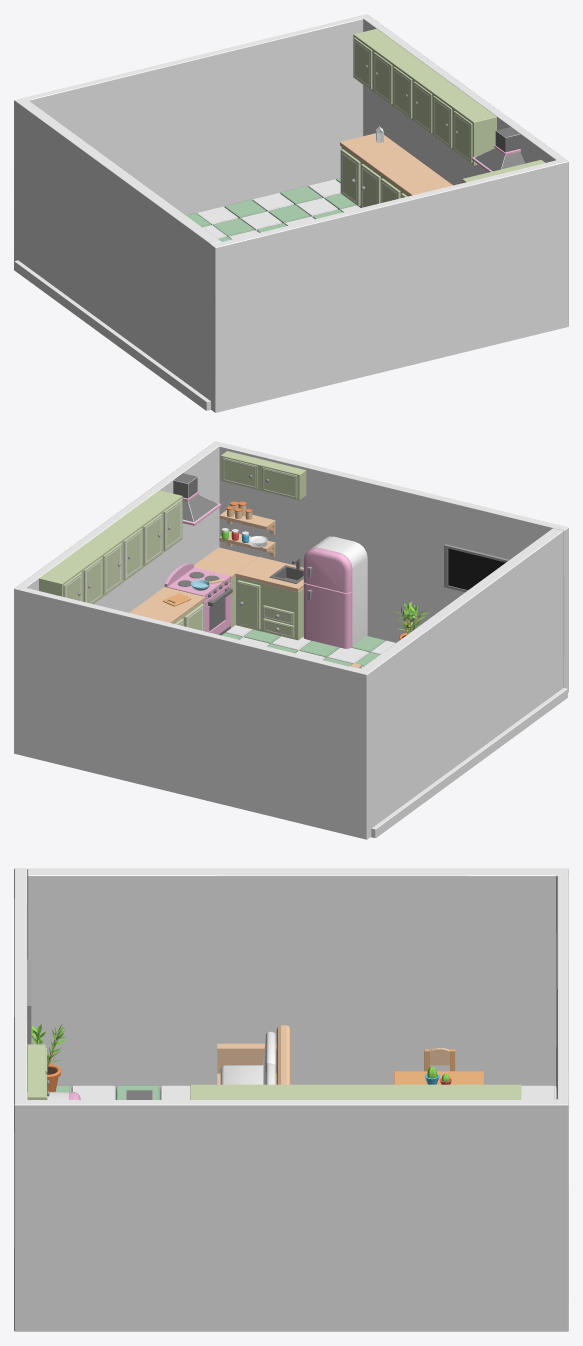
The model's file is KitchenV1.fbx.
The picture shows the model from 3 angles, top to bottom: view 1: azimuth 30°, elevation 25°; view 2: azimuth 150°, elevation 25°; view 3: azimuth 270°, elevation 25°; orthographic projection. The views are drawn at different scales.
Parts seen in each view (by area): view 1: Wall, Floor tile.001, Counter.002, Cupboard.002, Cupboard.001, Cupboard, Floor, Counter.001, Hood; view 2: Wall, Fridge, Counter with sink, Wall shelf, Cupboard.002, Cupboard, Floor, Cupboard.001, Floor tile, Stove, Cube, Counter (+4 smaller); view 3: Wall, Sofa, Cupboard.001, Cupboard.002, Cupboard, Floor tile.003, Wall shelf, Table, Plant, Chair.001.
Part boxes in pixels (<box>): Wall: <box>14,14,568,412</box>; Floor tile.001: <box>197,178,359,239</box>; Counter.002: <box>340,133,419,207</box>; Cupboard.002: <box>433,87,496,165</box>; Cupboard.001: <box>353,28,416,106</box>; Cupboard: <box>393,58,456,135</box>; Floor: <box>14,260,210,410</box>; Counter.001: <box>379,161,452,202</box>; Hood: <box>471,127,525,172</box>; Wall: <box>14,441,568,839</box>; Fridge: <box>303,536,367,648</box>; Counter with sink: <box>235,557,303,640</box>; Wall shelf: <box>220,451,306,500</box>; Cupboard.002: <box>119,490,182,567</box>; Cupboard: <box>79,519,142,597</box>; Floor: <box>371,687,567,837</box>; Cupboard.001: <box>39,549,102,604</box>; Floor tile: <box>221,625,385,666</box>; Stove: <box>164,563,232,635</box>; Cube: <box>444,544,509,592</box>; Counter: <box>129,587,204,630</box>; Wall: <box>14,868,568,1331</box>; Sofa: <box>217,1025,290,1084</box>; Cupboard.001: <box>410,1084,521,1099</box>; Cupboard.002: <box>190,1084,300,1099</box>; Cupboard: <box>301,1084,410,1099</box>; Floor tile.003: <box>55,1085,190,1099</box>; Wall shelf: <box>27,1044,49,1099</box>; Table: <box>394,1071,483,1084</box>; Plant: <box>31,1023,66,1091</box>; Chair.001: <box>424,1048,455,1071</box>.
Bounding box in the file's own units: 1540 × 681 × 1505.
